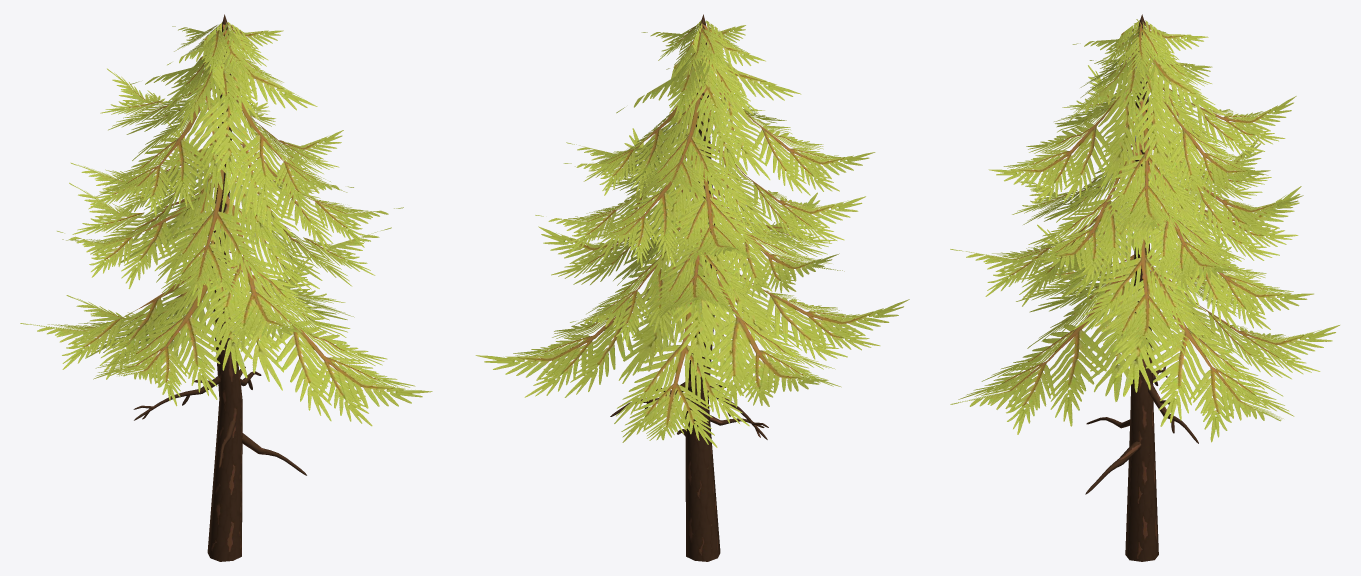
Rendered from dead_tree1.glb.
The picture shows the model from 3 angles, left to right: view 1: azimuth 30°, elevation 25°; view 2: azimuth 150°, elevation 25°; view 3: azimuth 270°, elevation 25°; orthographic projection.
Visible parts, largest first — view 1: PineTree_1; view 2: PineTree_1; view 3: PineTree_1.
Part boxes in pixels (x1,y1,x2,y2): PineTree_1: (20,14,432,561); PineTree_1: (475,14,909,561); PineTree_1: (950,14,1339,561).
Bounding box in the file's own units: 3.42 × 5.18 × 3.49.
2 materials, 2 textured.
